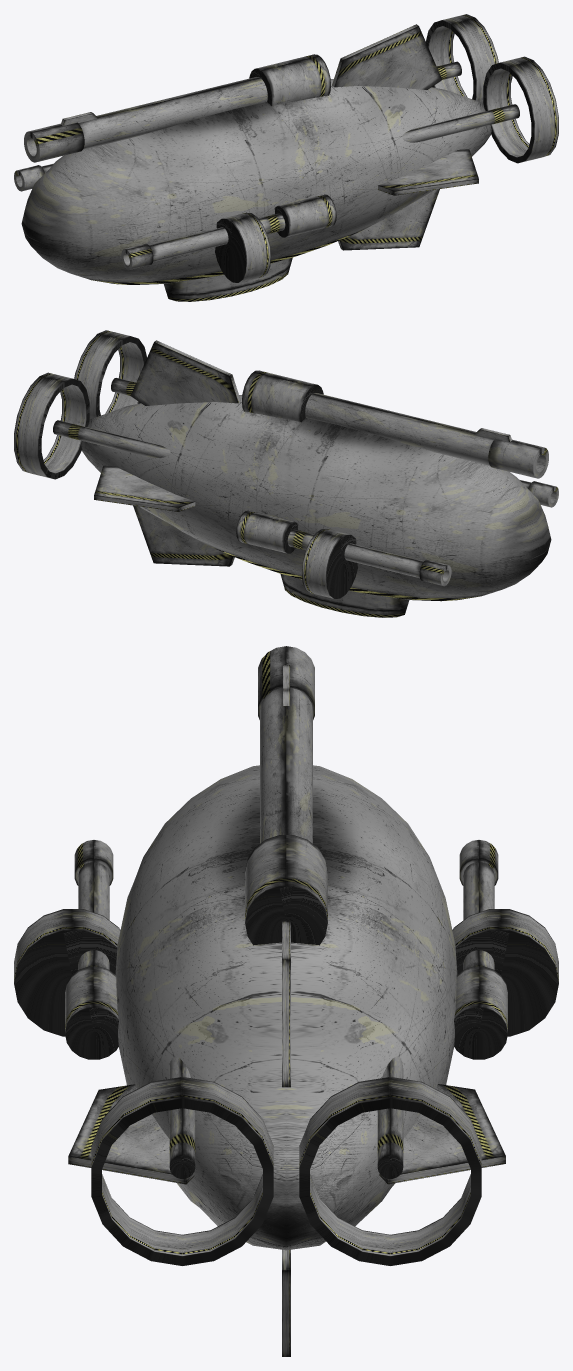
Rendered from Blimp.fbx.
3 renders of one model, top to bottom at view 1: azimuth 30°, elevation 25°; view 2: azimuth 150°, elevation 25°; view 3: azimuth 270°, elevation 25°, orthographic. The views are drawn at different scales.
Parts seen in each view (by area): view 1: Sphere001, Box002, Cylinder005, Tube004, Tube005, Cylinder004, Cylinder006, Box001, Cylinder001, Cylinder003, Tube002, Cylinder002 (+2 smaller); view 2: Sphere001, Box002, Cylinder005, Tube005, Tube004, Cylinder004, Cylinder006, Box001, Cylinder001, Cylinder003, Tube002, Cylinder002 (+2 smaller); view 3: Sphere001, Cylinder004, Tube004, Tube005, Box001, Cylinder002, Cylinder006, Cylinder005, Cylinder003, Box002, Tube002, Cylinder010 (+2 smaller).
Part boxes in pixels (x1,y1,x2,y2): Sphere001: [21, 79, 491, 284]; Box002: [332, 24, 442, 250]; Cylinder005: [79, 77, 267, 149]; Tube004: [483, 56, 558, 163]; Tube005: [426, 14, 498, 102]; Cylinder004: [215, 212, 270, 282]; Cylinder006: [249, 54, 330, 105]; Box001: [378, 149, 478, 195]; Cylinder001: [164, 257, 292, 301]; Cylinder003: [41, 163, 285, 261]; Tube002: [24, 122, 84, 162]; Cylinder002: [274, 194, 336, 237]; Sphere001: [81, 395, 551, 601]; Box002: [130, 340, 240, 566]; Cylinder005: [305, 393, 494, 465]; Tube005: [14, 372, 89, 479]; Tube004: [74, 330, 146, 418]; Cylinder004: [302, 529, 357, 598]; Cylinder006: [242, 370, 323, 422]; Box001: [94, 465, 195, 511]; Cylinder001: [280, 574, 409, 617]; Cylinder003: [287, 479, 530, 577]; Tube002: [488, 438, 548, 478]; Cylinder002: [236, 510, 298, 553]; Sphere001: [115, 765, 457, 1250]; Cylinder004: [14, 909, 558, 1036]; Tube004: [91, 1077, 273, 1265]; Tube005: [299, 1077, 481, 1265]; Box001: [68, 1084, 505, 1184]; Cylinder002: [65, 966, 507, 1059]; Cylinder006: [245, 835, 327, 945]; Cylinder005: [260, 687, 312, 843]; Cylinder003: [78, 862, 494, 969]; Box002: [282, 921, 290, 1356]; Tube002: [258, 646, 314, 719]; Cylinder010: [169, 1056, 195, 1178].
Size of the model in its own units: 171 by 94.36 by 75.78.
1 material, 1 textured.
